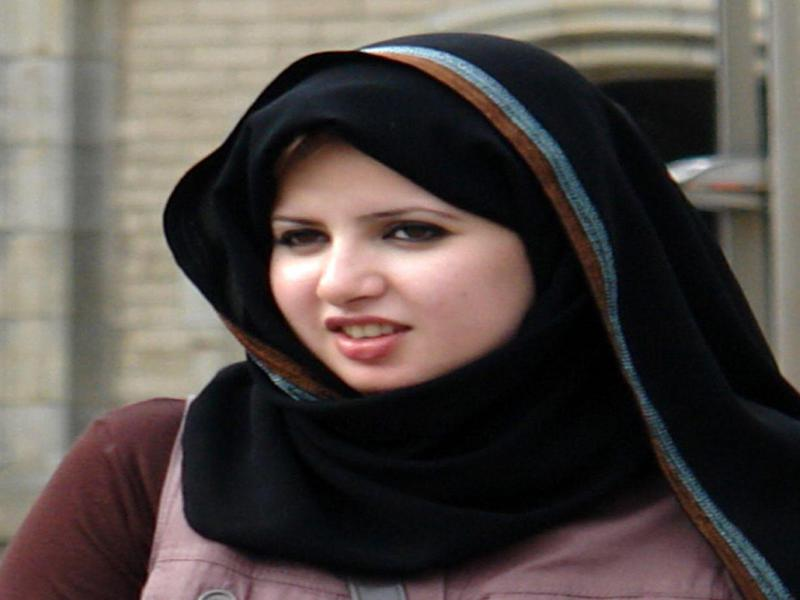person: (14, 29, 792, 600)
